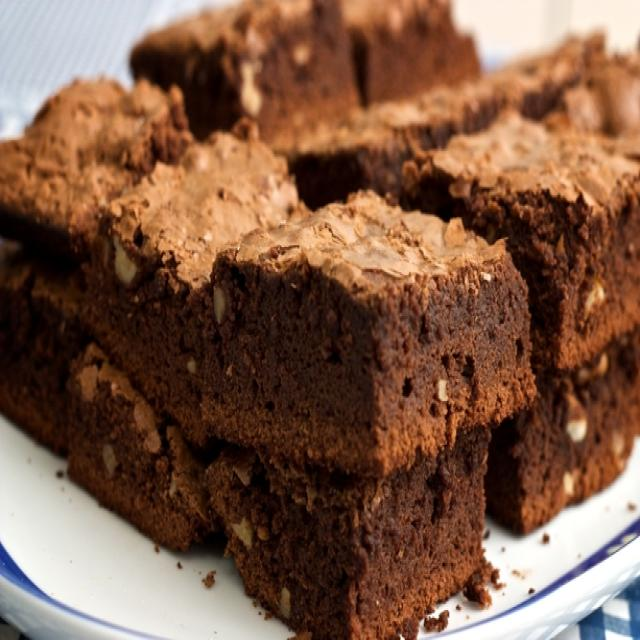蛋糕甜品: (11, 13, 634, 618)
